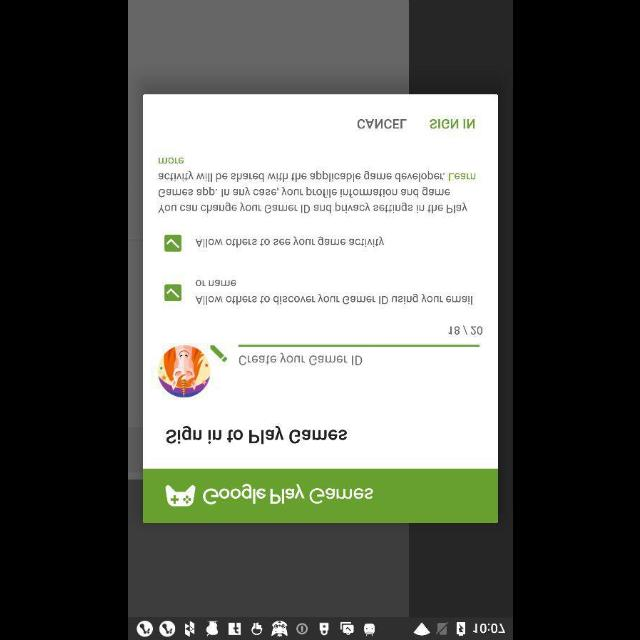checkbox: (163, 284, 180, 302), (163, 234, 180, 252)
icon: (164, 484, 196, 506), (210, 344, 228, 362)
image: (157, 345, 209, 397)
input: (238, 344, 480, 366)
panel: (142, 94, 498, 522)
text: (157, 156, 475, 214), (195, 280, 472, 304), (202, 482, 374, 504), (165, 426, 347, 444), (194, 236, 383, 248), (238, 353, 362, 365), (358, 119, 407, 129), (428, 119, 474, 129), (448, 324, 482, 336)
textbutton: (428, 119, 474, 129), (447, 173, 475, 181), (158, 156, 184, 164)
uppertaskbar: (128, 617, 512, 639)
